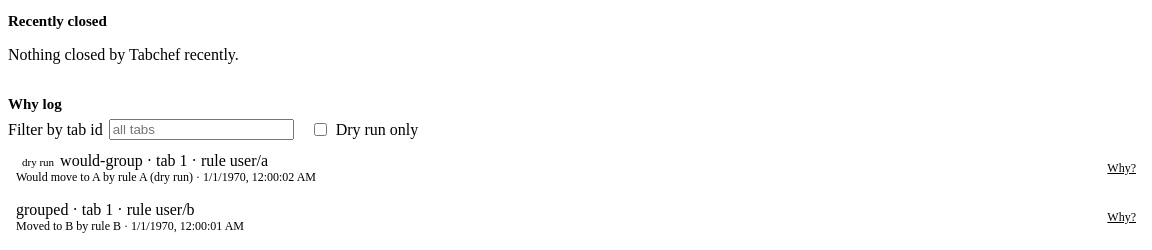
Test: History (dry run, M2 T12) › marks dry-run entries with a chip and filters to them
Expected: the text "Moved to B by rule B · 1/1/1970, 12:00:01 AM" is shown, [16,219,244,233]
Expected: the text "dry run" is shown once, [22,156,54,168]
Click the checkbox labelled "Dry run only". click: (320, 130)
box: [314,123,327,136]
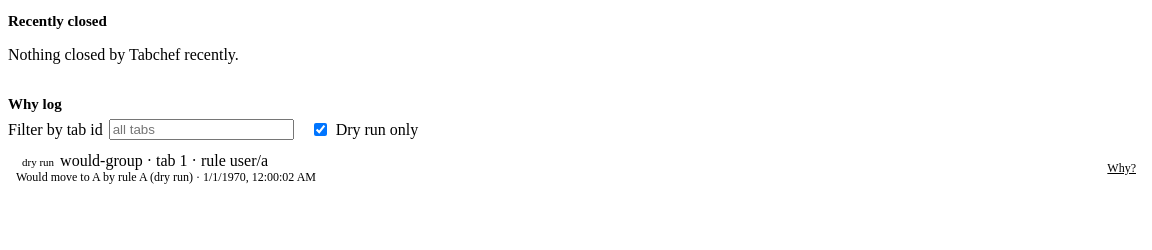
Expected: the text "Would move to A by rule A (dry run) · 1/1/1970, 12:00:02 AM" is shown, [16,170,316,184]
Now the text "Moved to B" is gone
